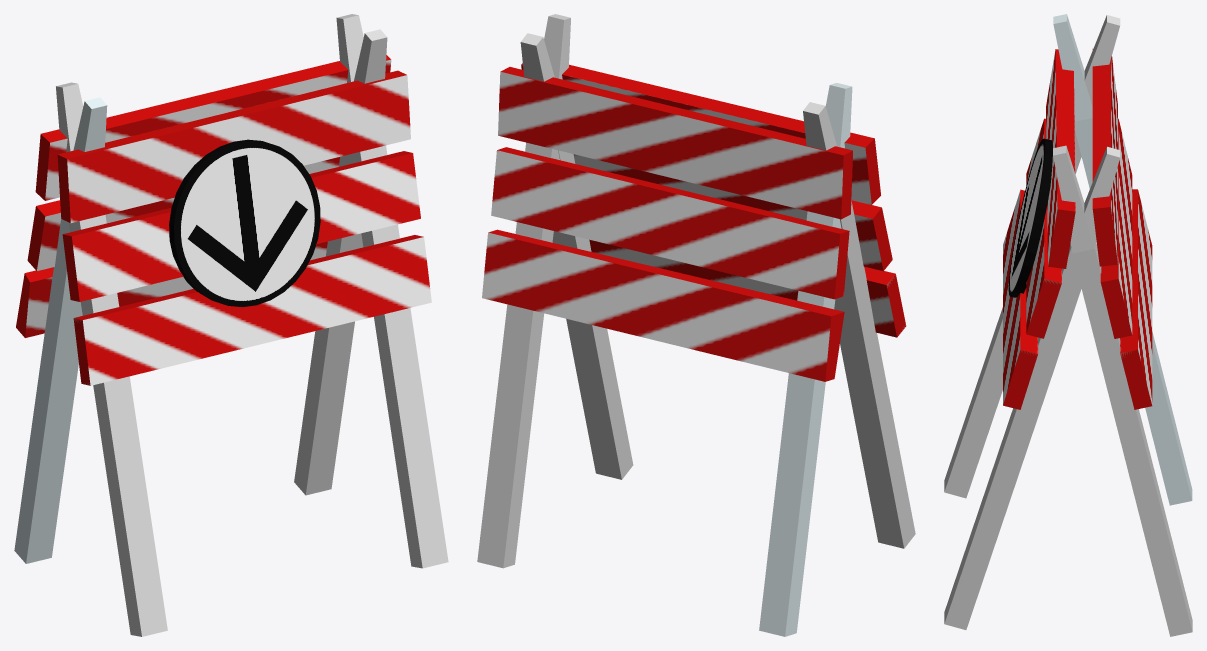
The model's file is Obstacle_Top (6).fbx.
3 renders of one model, left to right at view 1: azimuth 30°, elevation 25°; view 2: azimuth 150°, elevation 25°; view 3: azimuth 270°, elevation 25°, orthographic. The views are drawn at different scales.
Visible parts, largest first — view 1: Куб.008, Куб.010, знак, Куб.009, Куб.001, Куб.004, Куб.002, Куб.003, Куб.012, Куб.007, Куб.011; view 2: Куб.007, Куб.011, Куб.012, Куб.002, Куб.003, Куб.001, Куб.004, Куб.010, Куб.008, Куб.009; view 3: Куб.003, Куб.004, Куб.001, Куб.002, Куб.007, Куб.010, Куб.012, Куб.008, Куб.011, знак, Куб.009.
Boxes of the visible parts, bbox=[...] form: Куб.008: bbox=[73, 235, 431, 385]; Куб.010: bbox=[57, 70, 410, 222]; знак: bbox=[169, 139, 320, 307]; Куб.009: bbox=[62, 151, 420, 301]; Куб.001: bbox=[14, 97, 107, 563]; Куб.004: bbox=[336, 14, 448, 568]; Куб.002: bbox=[56, 82, 167, 636]; Куб.003: bbox=[294, 29, 387, 495]; Куб.012: bbox=[35, 55, 391, 200]; Куб.007: bbox=[16, 241, 327, 337]; Куб.011: bbox=[27, 157, 339, 270]; Куб.007: bbox=[482, 229, 844, 381]; Куб.011: bbox=[491, 147, 849, 299]; Куб.012: bbox=[498, 67, 852, 219]; Куб.002: bbox=[803, 102, 915, 548]; Куб.003: bbox=[477, 14, 570, 568]; Куб.001: bbox=[759, 83, 852, 636]; Куб.004: bbox=[520, 33, 633, 479]; Куб.010: bbox=[521, 63, 880, 204]; Куб.008: bbox=[589, 239, 906, 337]; Куб.009: bbox=[573, 154, 892, 271]; Куб.003: bbox=[1053, 145, 1192, 636]; Куб.004: bbox=[944, 146, 1120, 629]; Куб.001: bbox=[1053, 14, 1192, 505]; Куб.002: bbox=[944, 15, 1120, 498]; Куб.007: bbox=[1120, 189, 1152, 409]; Куб.010: bbox=[1046, 49, 1075, 268]; Куб.012: bbox=[1092, 49, 1117, 266]; Куб.008: bbox=[1003, 189, 1038, 409]; Куб.011: bbox=[1100, 118, 1132, 338]; знак: bbox=[1008, 138, 1052, 297]; Куб.009: bbox=[1026, 118, 1061, 338].
Bounding box in the file's own units: 298 × 410 × 191.
